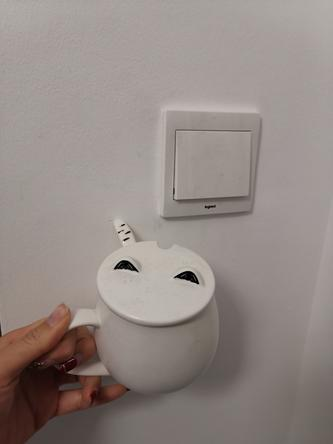switch: (171, 121, 255, 206)
